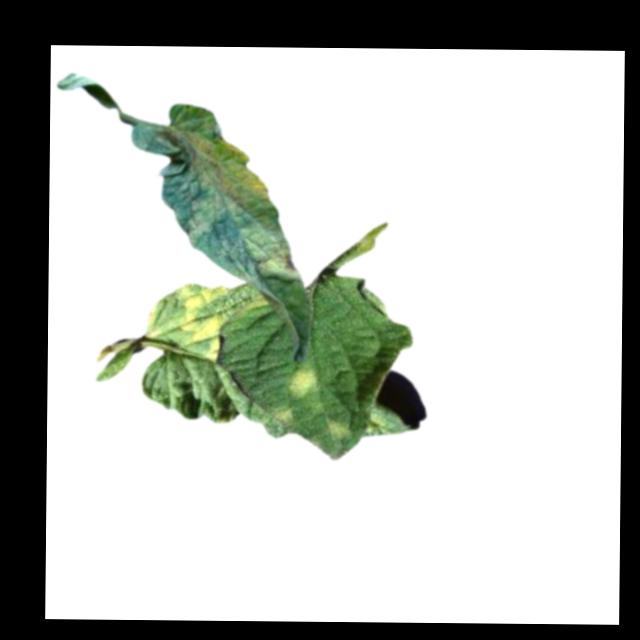Leaf_Mold: (183, 133, 271, 206), (175, 285, 229, 361), (236, 234, 302, 282), (285, 364, 316, 401), (268, 405, 293, 428), (326, 420, 351, 442)
